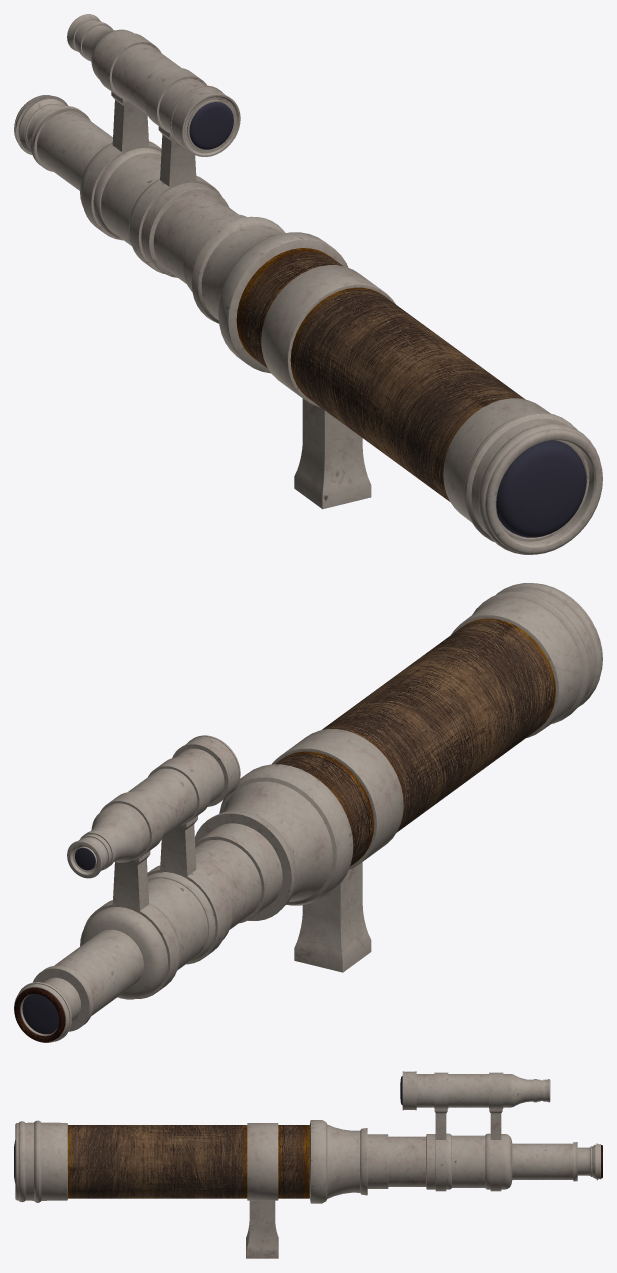
File: VintageTelescope.fbx
The picture shows the model from 3 angles, top to bottom: view 1: azimuth 30°, elevation 25°; view 2: azimuth 150°, elevation 25°; view 3: azimuth 270°, elevation 25°; orthographic projection. The views are drawn at different scales.
Parts seen in each view (by area): view 1: Telescope; view 2: Telescope; view 3: Telescope.
Part boxes in pixels (x1,y1,x2,y2): Telescope: (14,14,602,554); Telescope: (14,583,602,1042); Telescope: (14,1071,602,1258).
Size of the model in its own units: 50.35 by 21.37 by 150.
